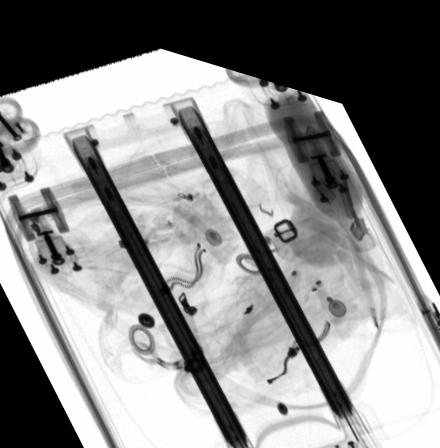Lighter: (172, 298, 207, 360)
